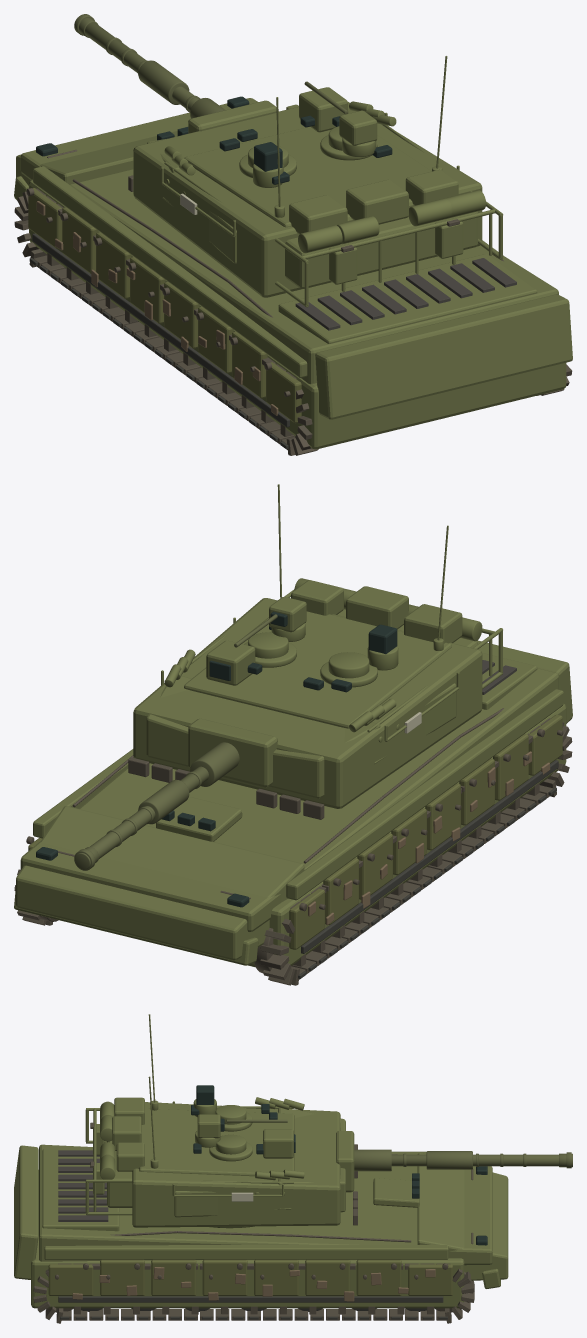
The model's file is mbt_abrams_static.glb.
3 views of the same model, one above another, from view 1: azimuth 30°, elevation 25°; view 2: azimuth 150°, elevation 25°; view 3: azimuth 270°, elevation 25° (orthographic). The views are drawn at different scales.
Visible parts, largest first — view 1: Body_RearPlate, Body_UpperHull, Body_TurretShell, Body_TurretRoof, Body_LowerHull, Body_EngineDeck, Body_Fender_-1, Body_Bustle, Wheel_SkirtRubber_-1, Body_Glacis, Body_Stowage_01, Body_Stowage_00 (+23 smaller); view 2: Body_UpperHull, Body_Glacis, Body_TurretShell, Body_TurretRoof, Body_Fender_-1, Body_Mantlet, Wheel_SkirtRubber_-1, Body_TurretCheekWedge_-1, Body_LowerHull, Body_TurretCheekWedge_1, Body_Stowage_01, Body_DriverHatch (+23 smaller); view 3: Body_UpperHull, Body_TurretShell, Body_LowerHull, Body_Fender_1, Body_TurretRoof, Body_Glacis, Body_RearPlate, Body_EngineDeck, Wheel_SkirtRubber_1, SideSkirt_1_05, SideSkirt_1_03, SideSkirt_1_06 (+21 smaller).
Part boxes in pixels (box(x1,y1,x2,y2)): Body_RearPlate: box(315, 294, 572, 419); Body_UpperHull: box(20, 98, 558, 384); Body_TurretShell: box(133, 102, 482, 297); Body_TurretRoof: box(184, 126, 431, 227); Body_LowerHull: box(29, 179, 566, 449); Body_EngineDeck: box(278, 254, 537, 343); Body_Fender_-1: box(33, 166, 307, 377); Body_Bustle: box(285, 211, 477, 288); Wheel_SkirtRubber_-1: box(32, 233, 289, 427); Body_Glacis: box(16, 131, 177, 186); Body_Stowage_01: box(346, 179, 408, 224); Body_Stowage_00: box(289, 195, 347, 234); Body_UpperHull: box(20, 668, 558, 932); Body_Glacis: box(16, 806, 304, 960); Body_TurretShell: box(133, 598, 482, 808); Body_TurretRoof: box(184, 611, 451, 728); Body_Fender_-1: box(286, 689, 563, 900); Body_Mantlet: box(188, 718, 277, 787); Wheel_SkirtRubber_-1: box(301, 760, 558, 953); Body_TurretCheekWedge_-1: box(269, 722, 380, 798); Body_LowerHull: box(248, 704, 566, 967); Body_TurretCheekWedge_1: box(146, 676, 191, 766); Body_Stowage_01: box(346, 586, 408, 629); Body_DriverHatch: box(156, 796, 242, 841); Body_UpperHull: box(39, 1144, 492, 1265); Body_TurretShell: box(132, 1102, 340, 1227); Body_LowerHull: box(31, 1170, 464, 1308); Body_Fender_1: box(44, 1245, 448, 1259); Body_TurretRoof: box(139, 1108, 294, 1176); Body_Glacis: box(417, 1153, 508, 1280); Body_RearPlate: box(14, 1145, 38, 1279); Body_EngineDeck: box(42, 1149, 119, 1231); Wheel_SkirtRubber_1: box(58, 1296, 443, 1302); SideSkirt_1_05: box(305, 1259, 350, 1295); SideSkirt_1_03: box(202, 1259, 247, 1295); SideSkirt_1_06: box(356, 1259, 401, 1295).
Size of the model in its own units: 3.77 by 3.94 by 8.71.
